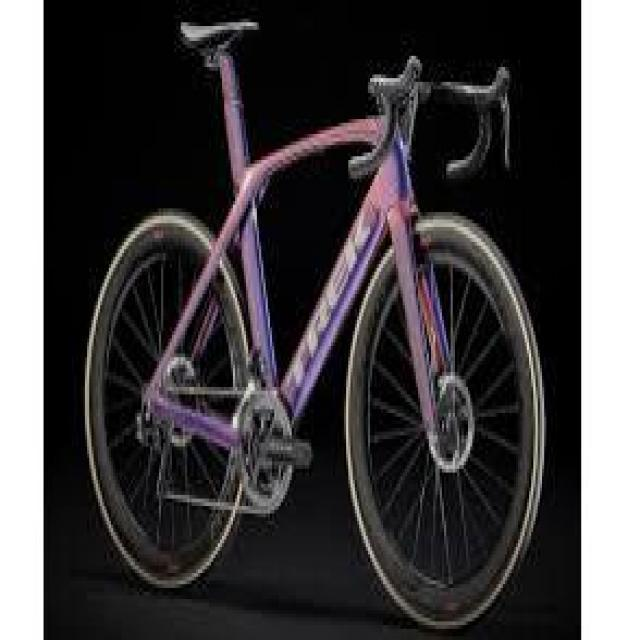bicycle: (79, 35, 552, 627)
